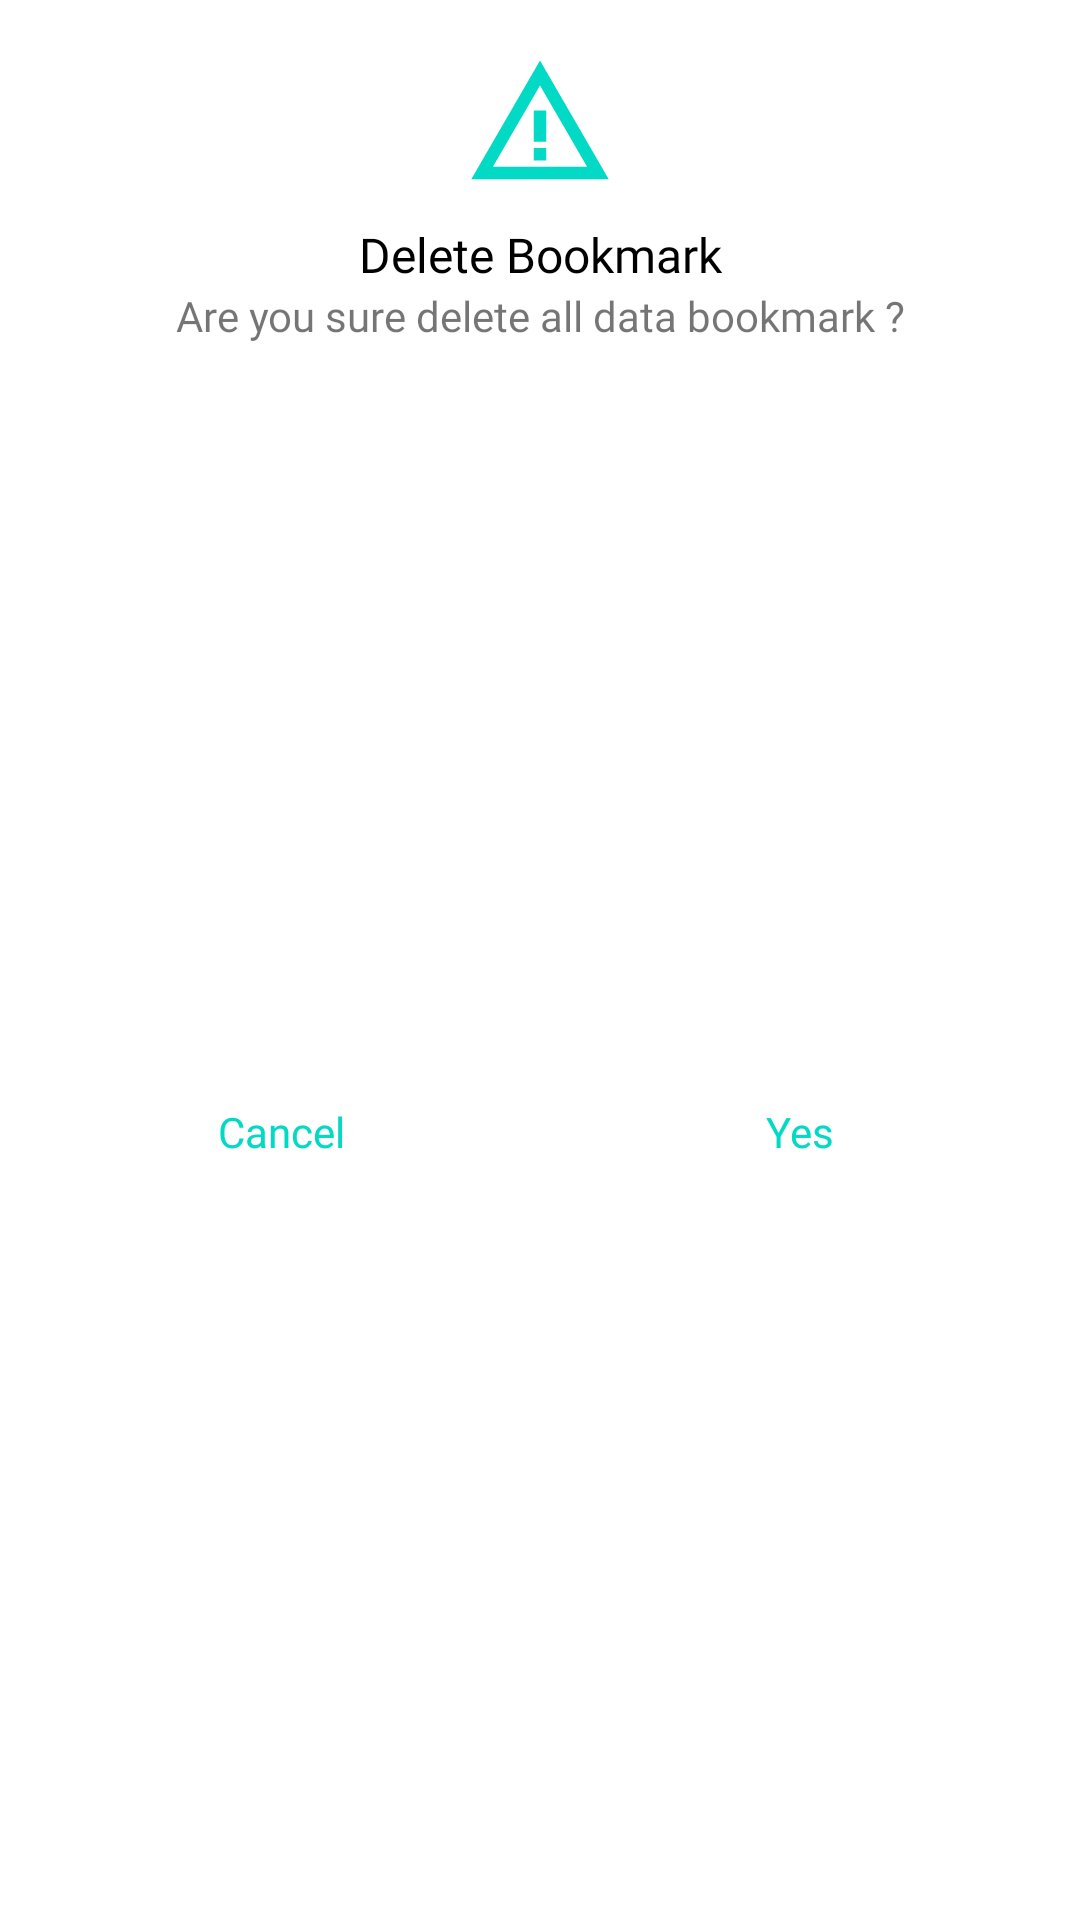

Icon bounding boxes for this 1080px×1920px phone screenshot, format bbox=[x1, y1, x2, y2]:
warning: bbox=[471, 61, 609, 180]
